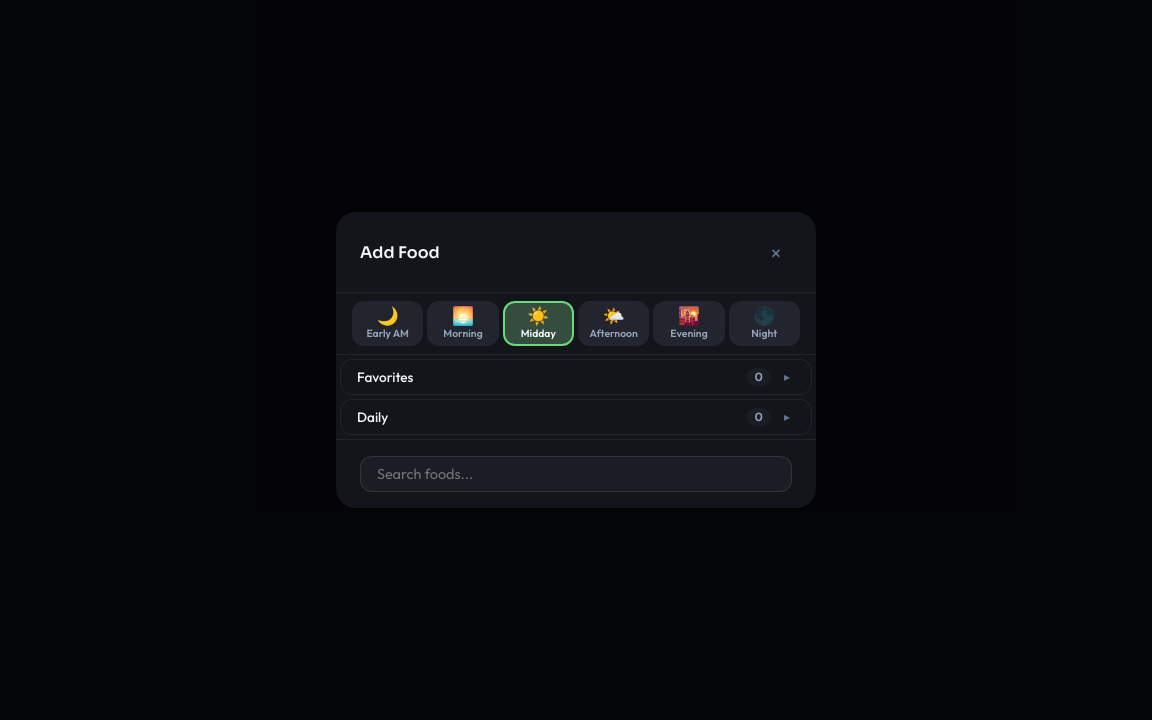
Test: AddFoodModal › shows "No foods" when expanded card is empty
The width and height of the screenshot is (1152, 720).
Click the text "Favorites": coordinates (385, 377) [357, 368, 414, 386]
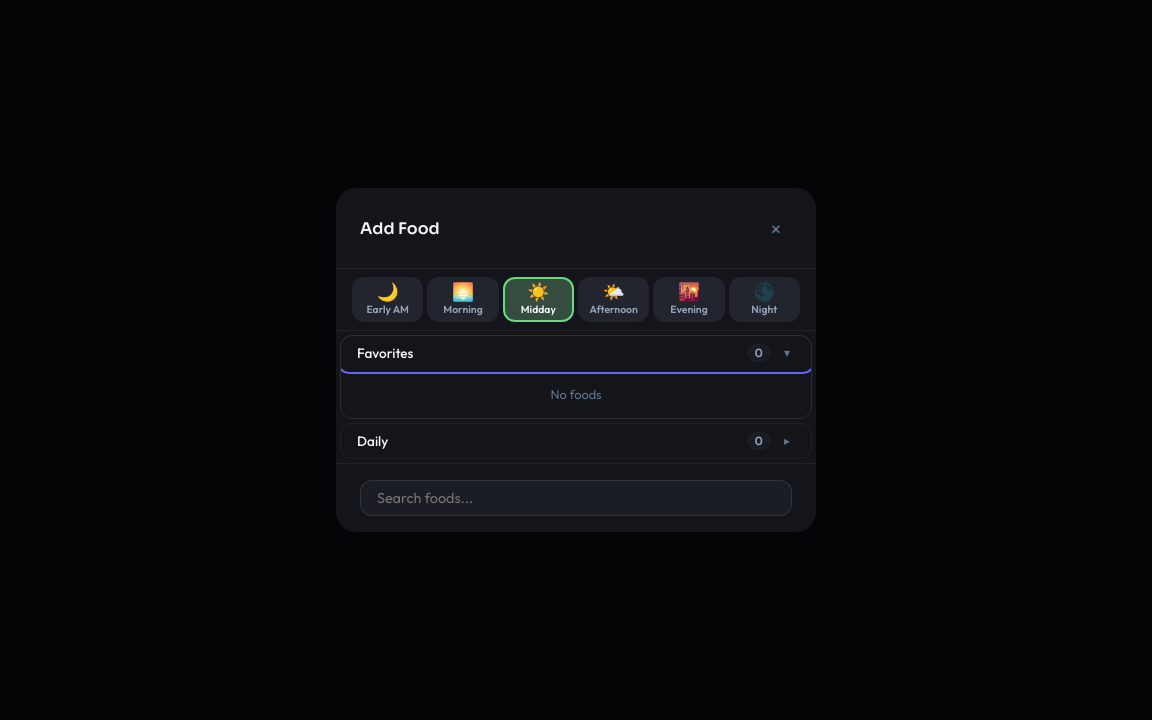
Check: the text "No foods" is shown, box [550, 386, 602, 402]
